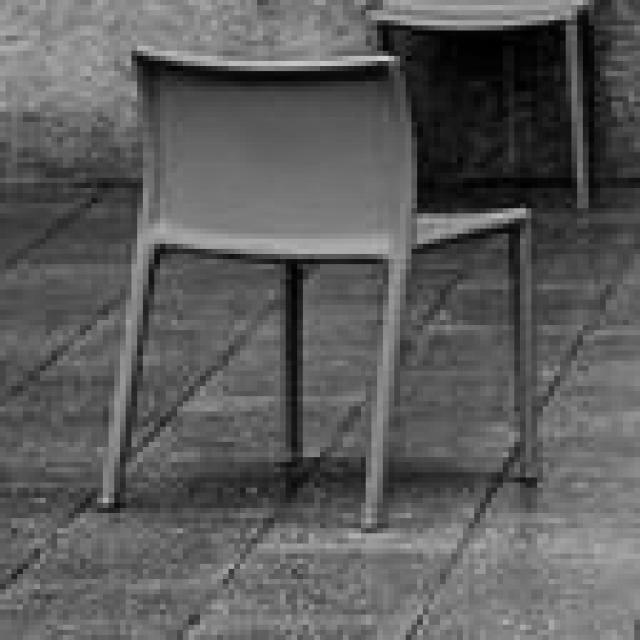chair: (96, 39, 538, 532)
